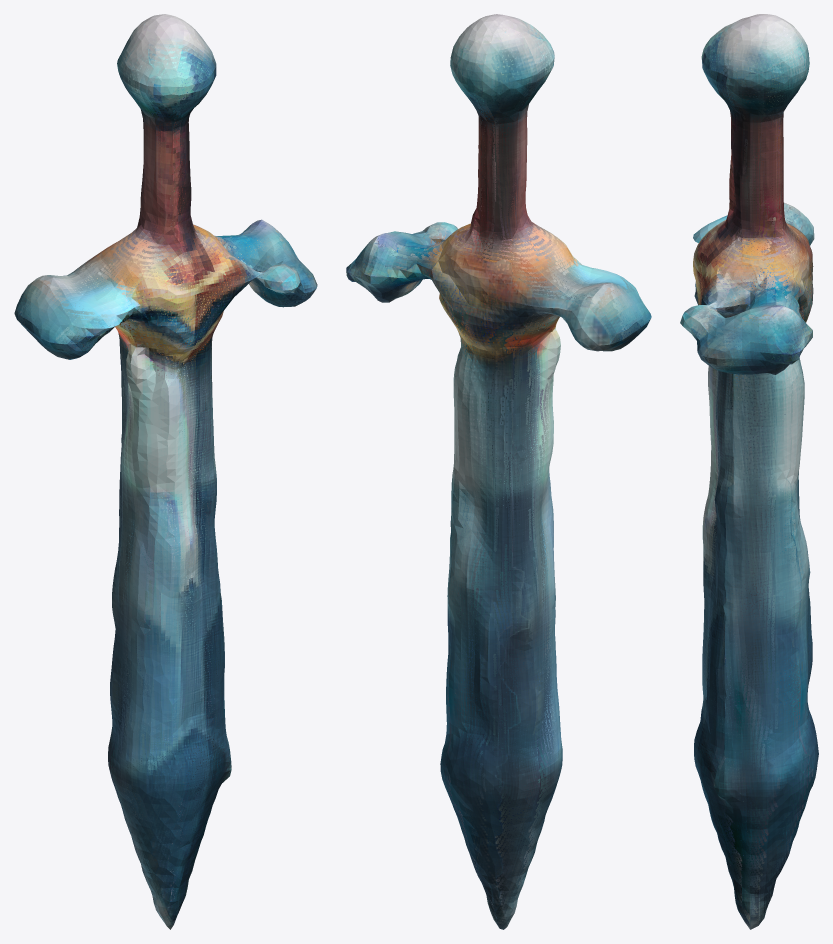
File: dqsword.glb
3 views of the same model, side by side, from view 1: azimuth 30°, elevation 25°; view 2: azimuth 150°, elevation 25°; view 3: azimuth 270°, elevation 25° (orthographic).
Bounding box in the file's own units: 0.4465 × 1.43 × 0.1965.
Materials: 1 (1 with a texture image).
